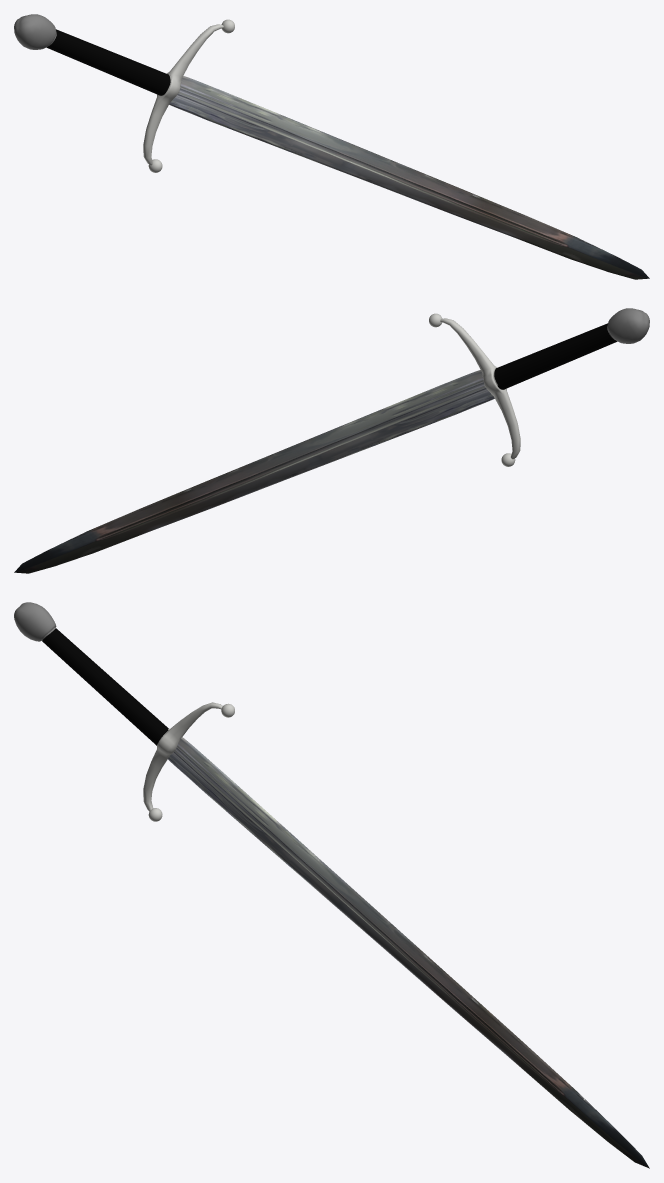
The model's file is Sword.FBX.
3 views of the same model, one above another, from view 1: azimuth 30°, elevation 25°; view 2: azimuth 150°, elevation 25°; view 3: azimuth 330°, elevation 25° (orthographic).
Parts seen in each view (by area): view 1: Box001; view 2: Box001; view 3: Box001.
Part boxes in pixels (x1,y1,x2,y2): Box001: [14, 14, 649, 279]; Box001: [14, 308, 649, 573]; Box001: [14, 602, 649, 1168].
Bounding box in the file's own units: 54811 × 34223 × 2126.
1 material, 1 textured.
